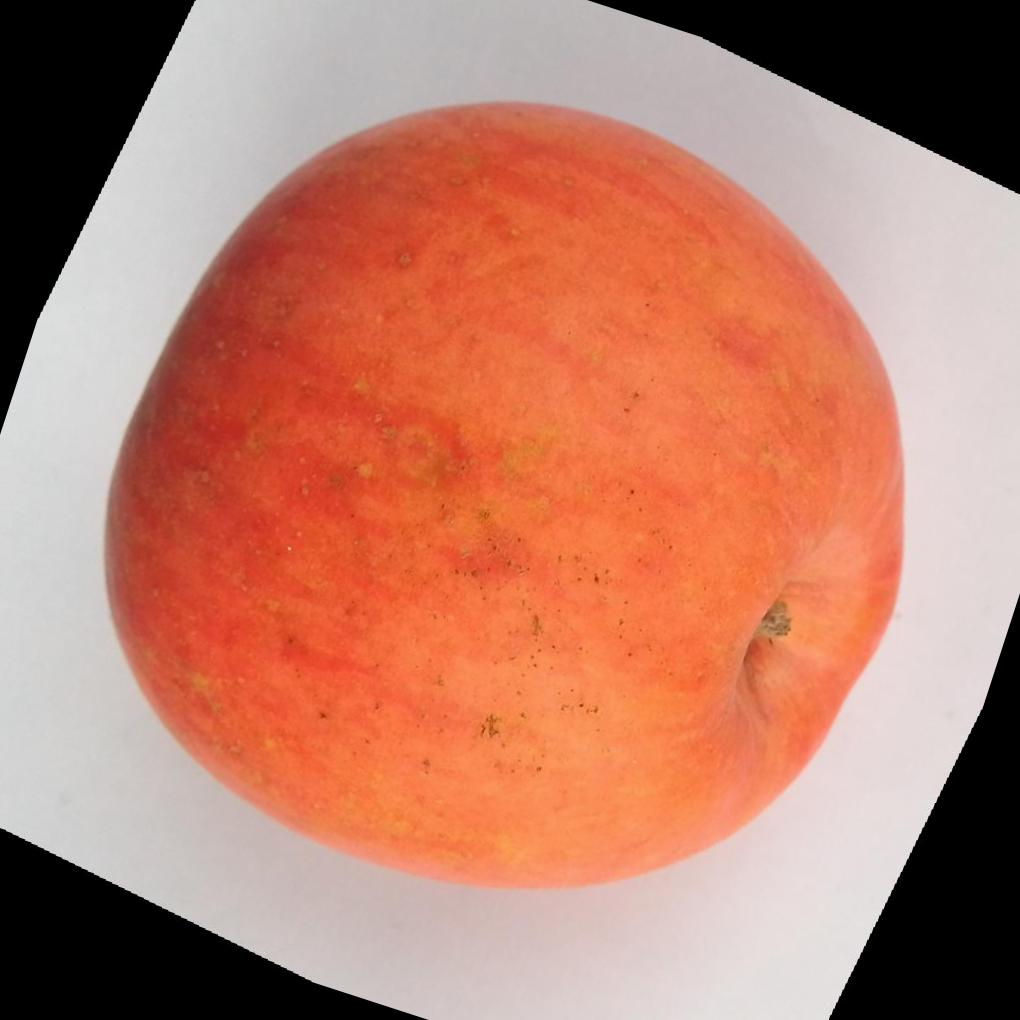FreshGuava: (102, 93, 907, 889)
